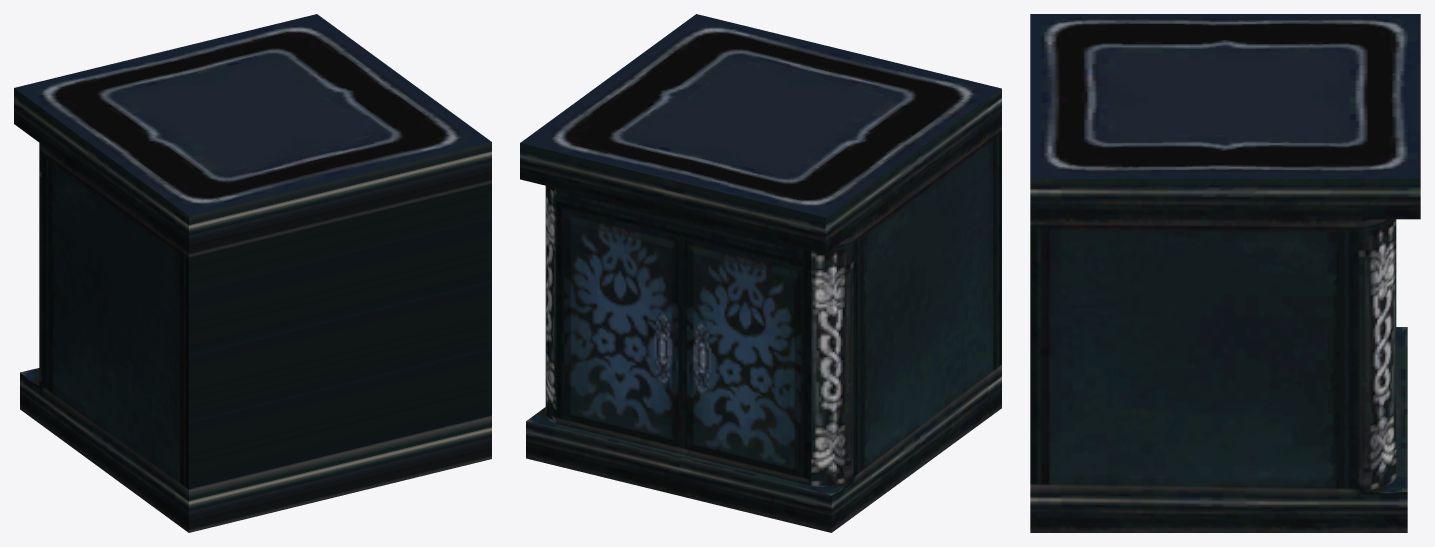
Rendered from furni_0201226_01.FBX.
3 renders of one model, left to right at view 1: azimuth 30°, elevation 25°; view 2: azimuth 150°, elevation 25°; view 3: azimuth 270°, elevation 25°, orthographic. The views are drawn at different scales.
Parts seen in each view (by area): view 1: furni_0201226_01; view 2: furni_0201226_01; view 3: furni_0201226_01.
Boxes of the visible parts, left/top/right/bottom form: furni_0201226_01: left=14, top=14, right=491, bottom=532; furni_0201226_01: left=520, top=14, right=1001, bottom=532; furni_0201226_01: left=1030, top=14, right=1420, bottom=532.
Bounding box in the file's own units: 80.04 × 80 × 80.
